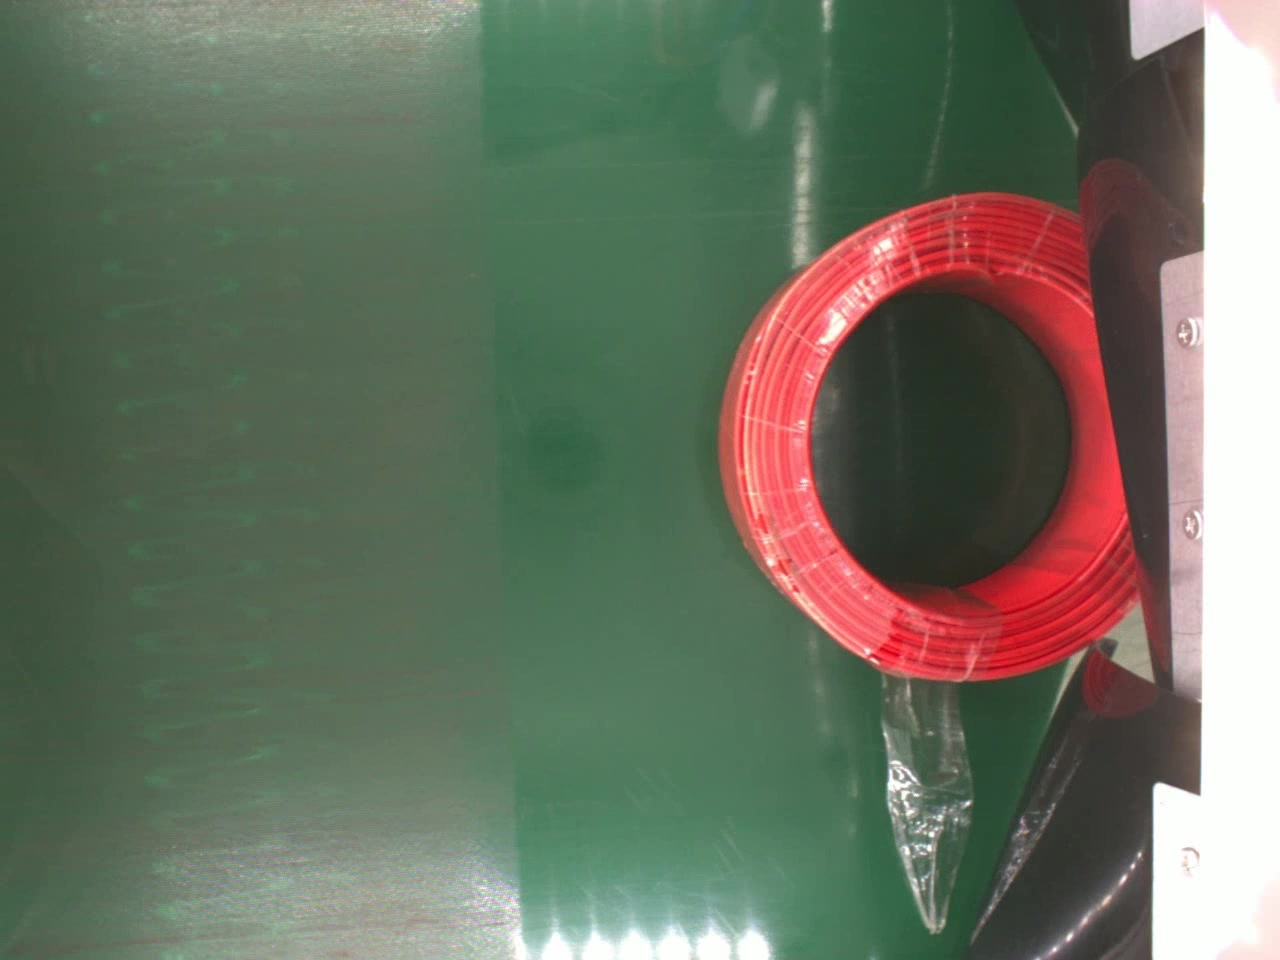red: (711, 188, 1148, 683)
